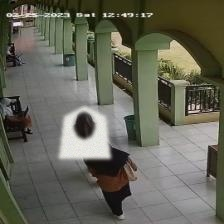Mukena: (58, 105, 111, 159)
